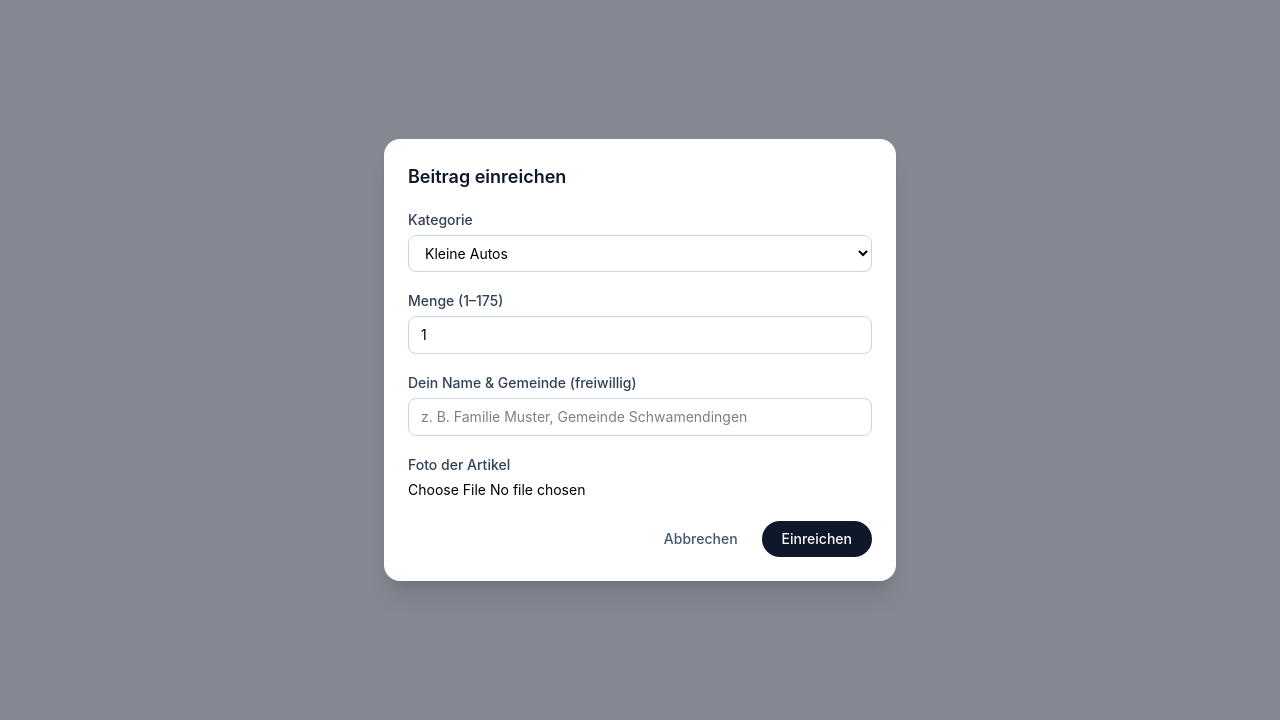
Test: UploadModal › blockiert eine Menge über 175
The image size is (1280, 720).
Step 1. Replace the text in the number field with test id "menge" with "176" → (640, 335), box [408,316,872,354]
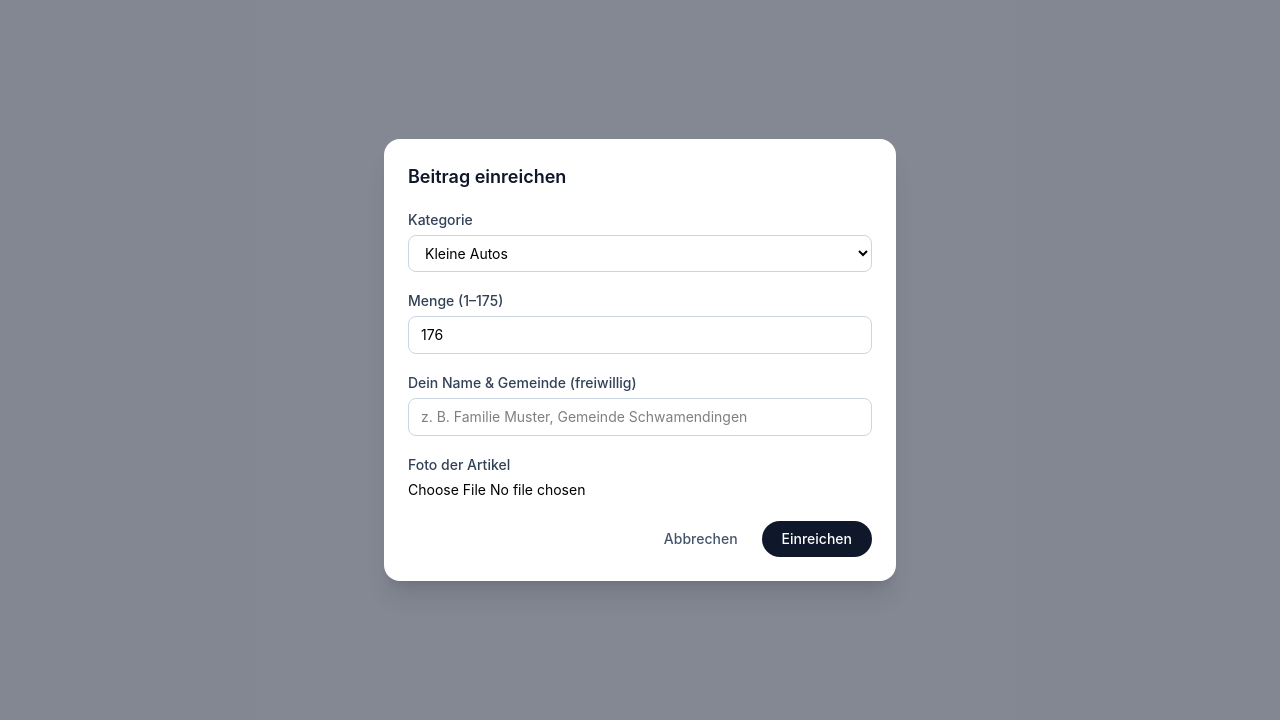
Step 2. Submit the form, box [408,163,872,557]
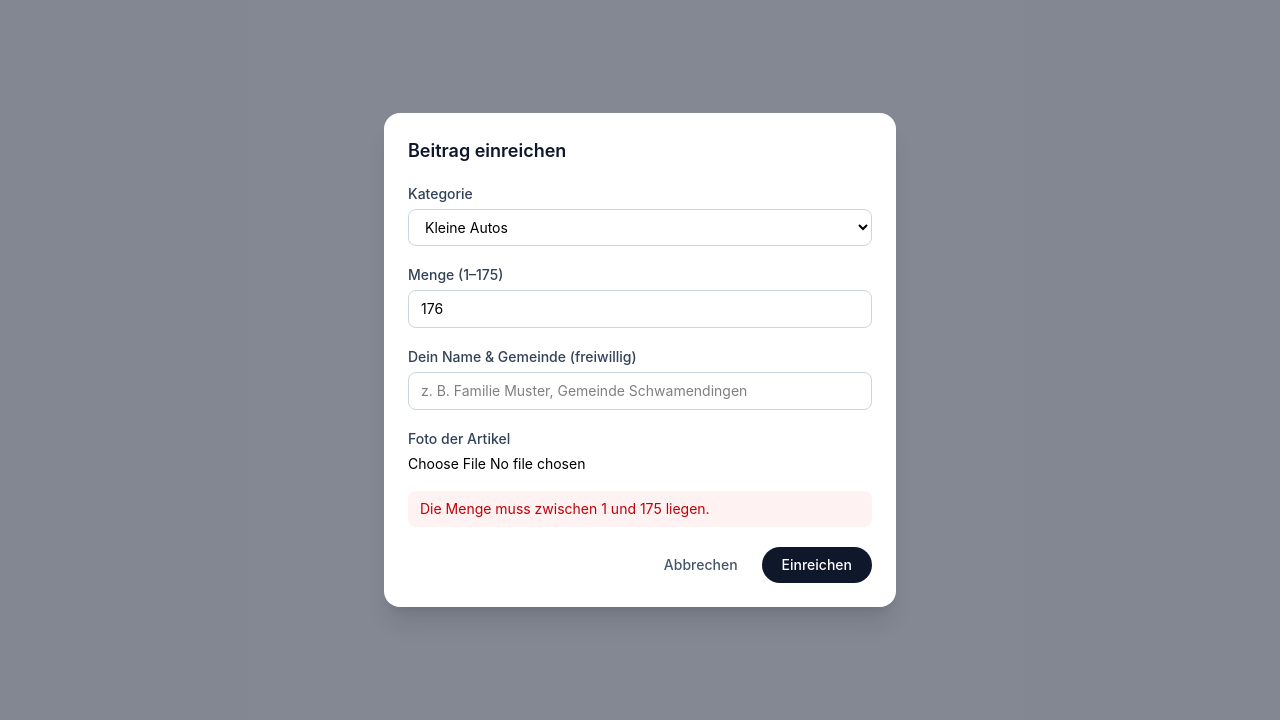
Expected: the text "zwischen 1 und 175" is shown, [420,500,710,517]
